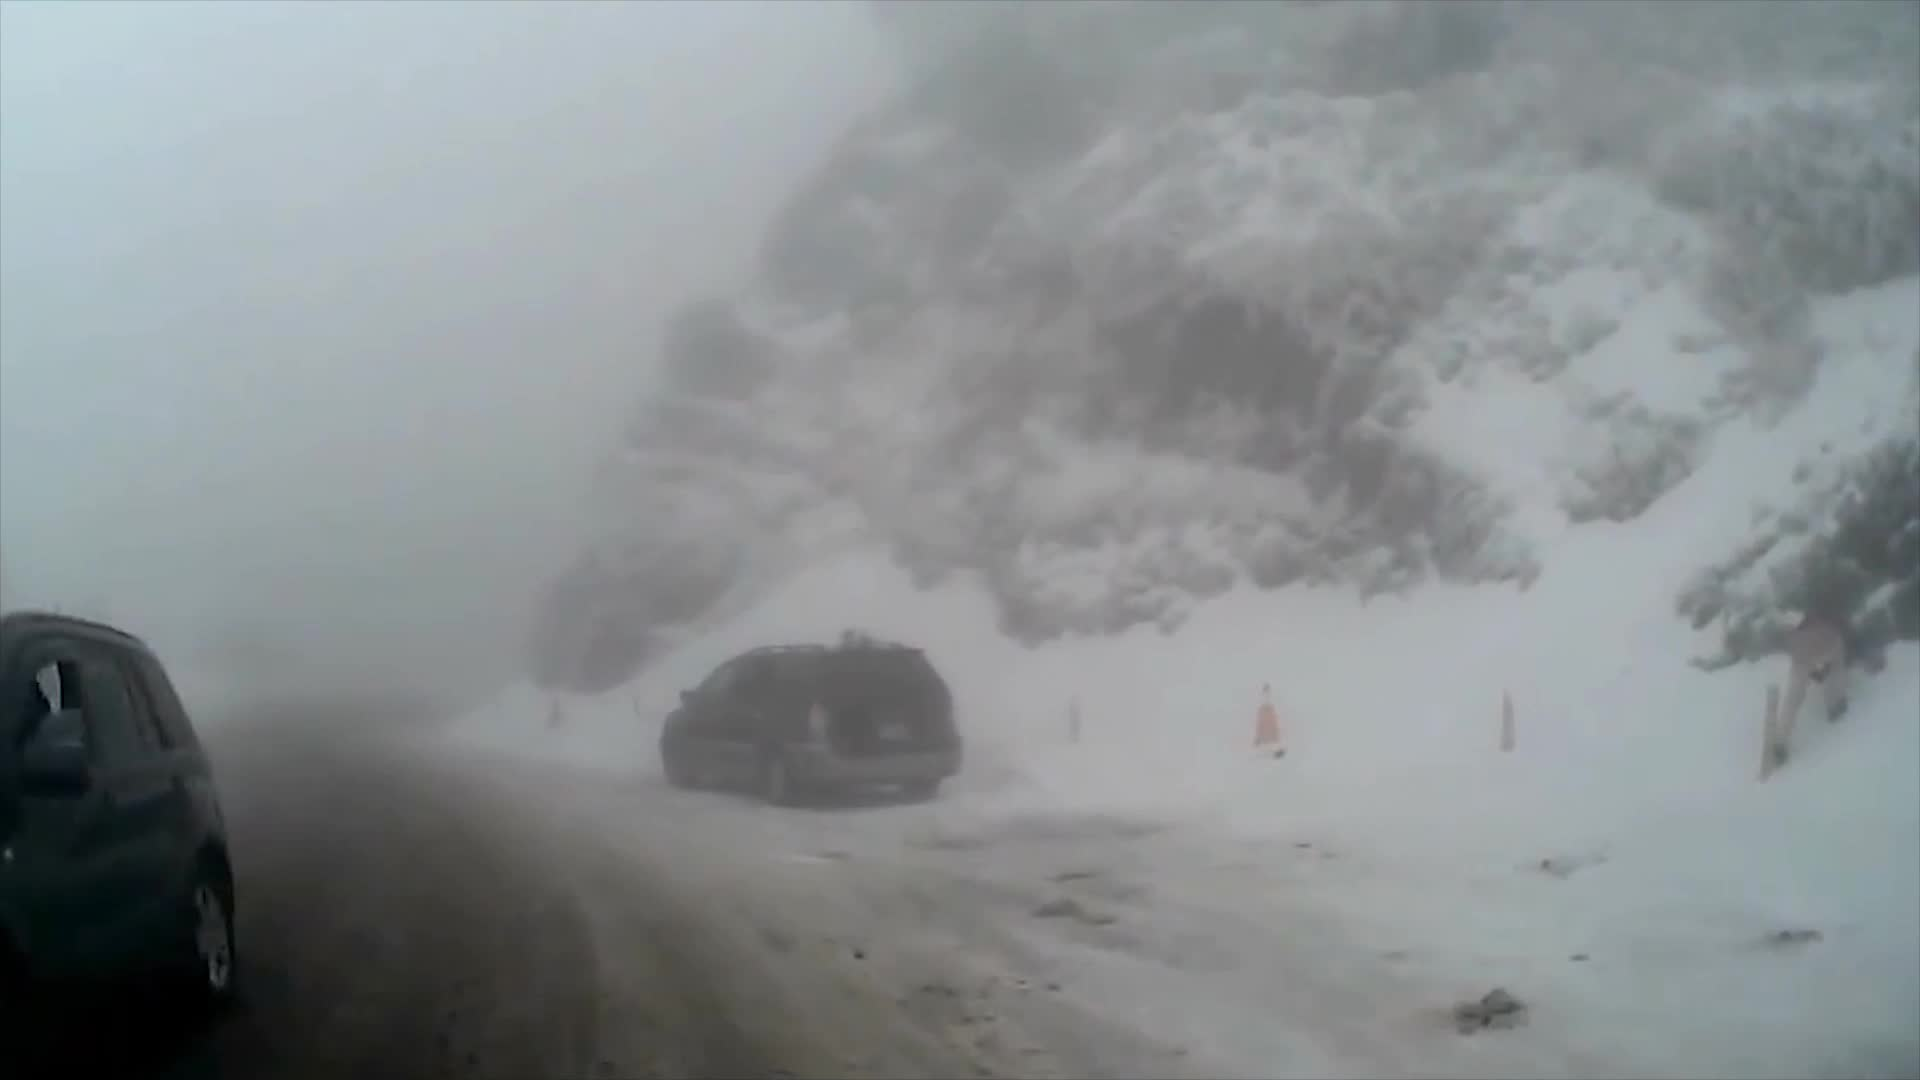vehicle: (0, 611, 240, 1080), (659, 642, 963, 804)
